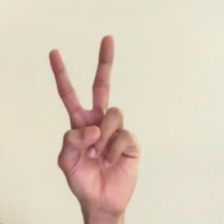V: (36, 24, 154, 223)
